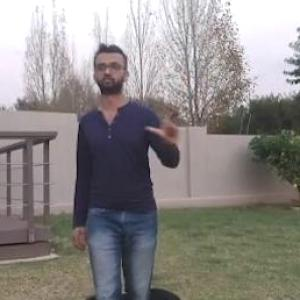land_hand: (146, 97, 188, 144)
